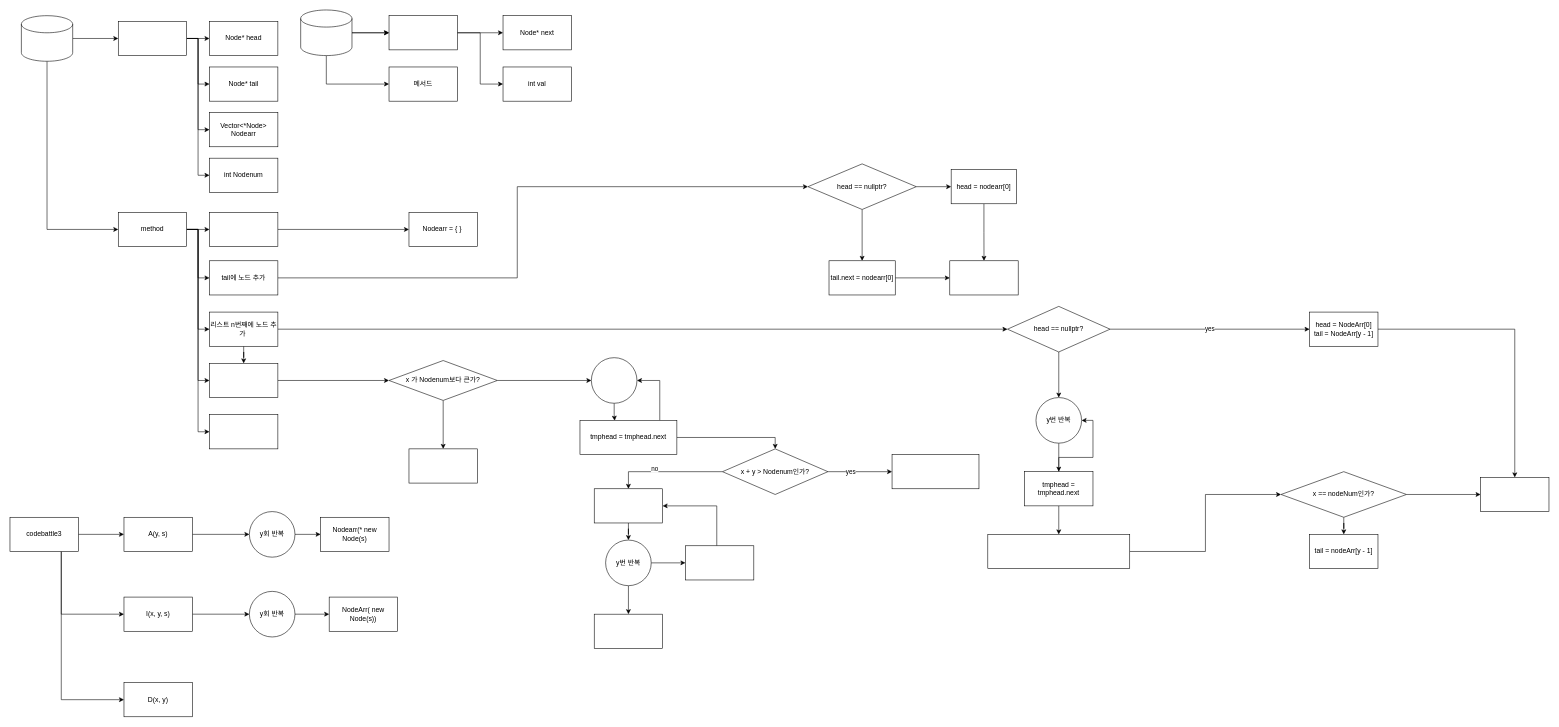
The diagram is 1559 pixels wide and 727 high, and some of its shapes have lost their labels. The shapes that lost their labels are listed below. From the top down, each one's centre as x and y in pixels, then its label:
(47,38): 링크드리스트
(152,38): feature
(326,32): node
(422,32): 특성
(243,229): Nodearr 초기화
(983,277): nodeArr = {}
(243,380): x번째 인덱스에 노드 y개 삭제
(614,380): x번 반복
(243,431): Nodearr 추가
(442,465): break
(935,471): tmphead.next = nullptr tail = tmphead
(628,505): tmpnext = tmphead
(1514,494): nodeArr초기화
(719,562): tmpnext = tmpnext.next
(1058,551): tmphead.next = nodeArr[0] nodeArr[y - 1].next = tmphead.next
(628,631): tmphead.next = tmpnext
